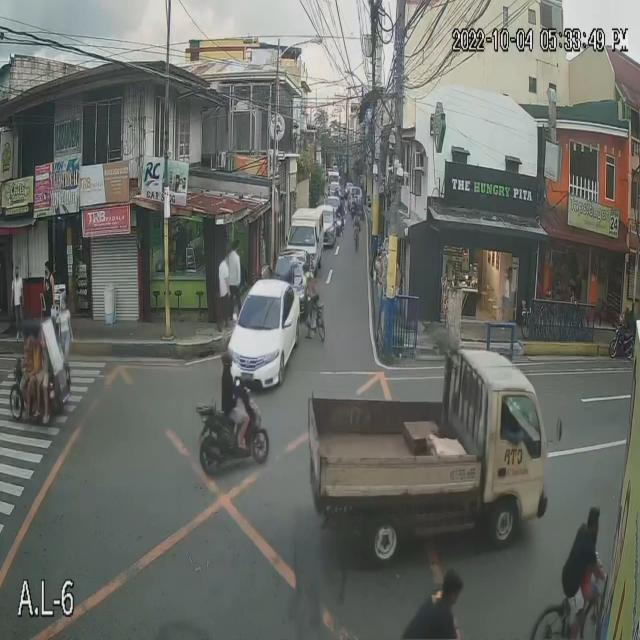Full-Faced: (215, 340, 240, 375)
